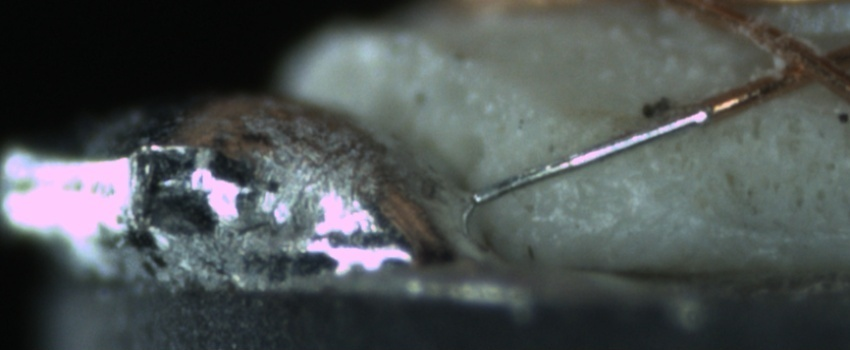CL: (759, 28, 848, 95)
TS: (471, 107, 697, 203)
